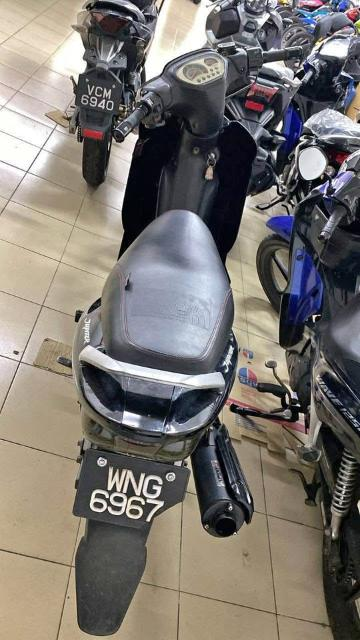License_Plate: (73, 448, 192, 530), (80, 80, 120, 116)
motorcycle: (63, 1, 308, 637), (68, 1, 164, 187)
